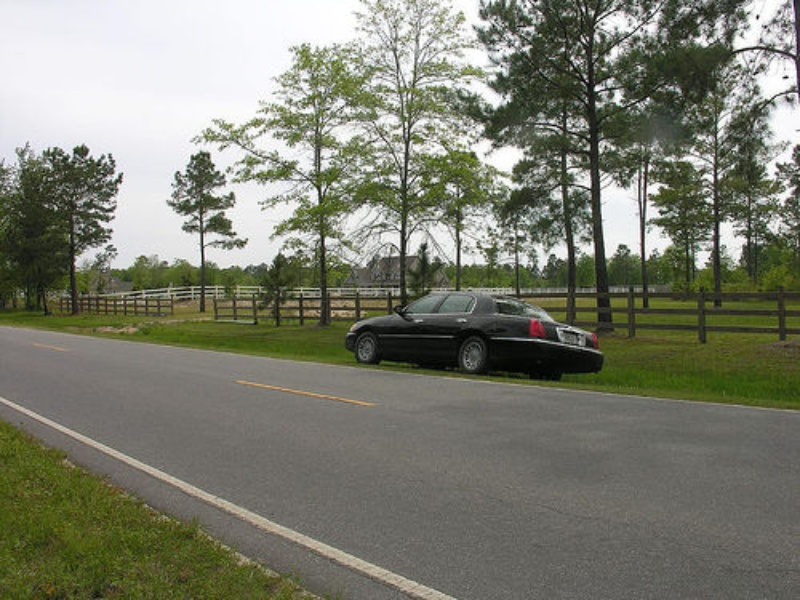car: (345, 292, 602, 374)
